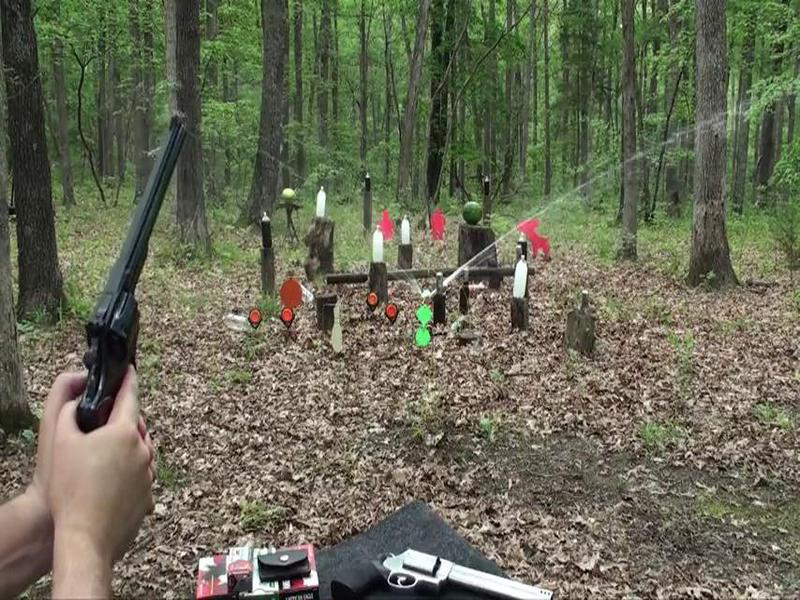Revolver: (58, 96, 203, 464)
